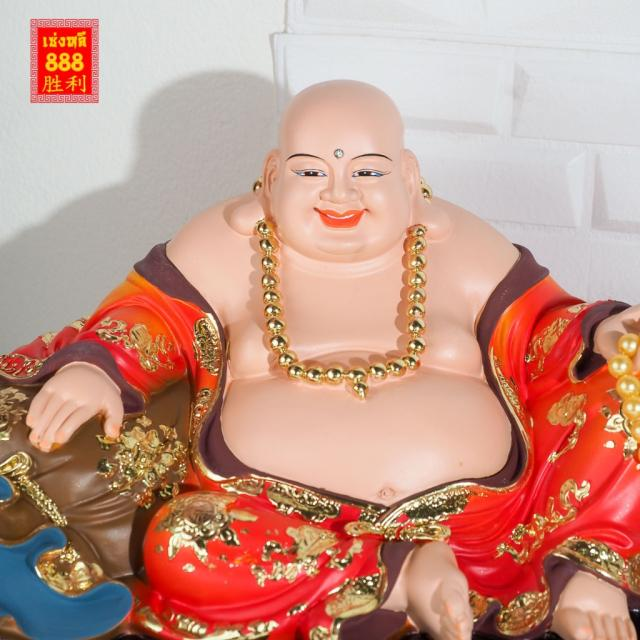Smiling Buddha: (151, 78, 547, 502)
